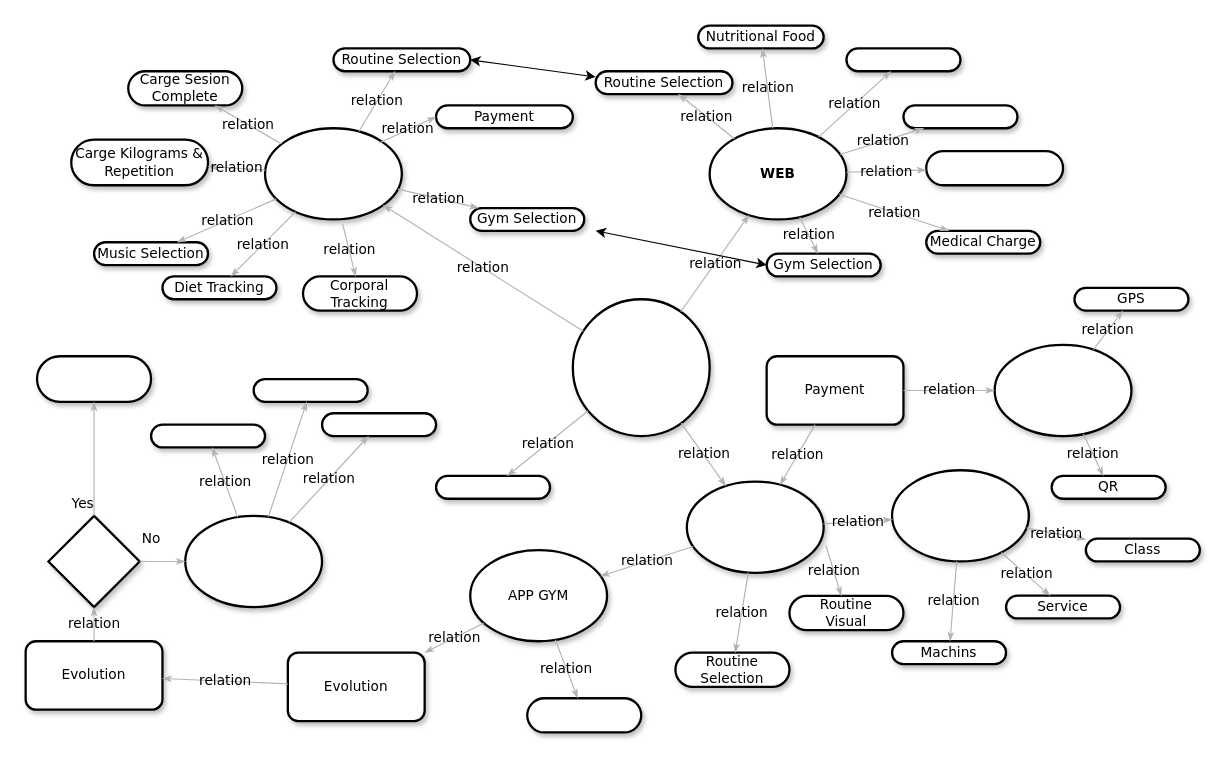
Some shapes in this 1227 by 760 pixel diagram are drawn without their labels. Each missing label, with the centre of its shape:
Administrator Control: (x=1063, y=392)
APP: (x=334, y=175)
APP/ WEB People client: (x=642, y=369)
Edilice: (x=961, y=517)
End: (x=94, y=380)
Historical Training: (x=995, y=169)
Routine Asigned: (x=585, y=716)
Web GYM: (x=756, y=528)
